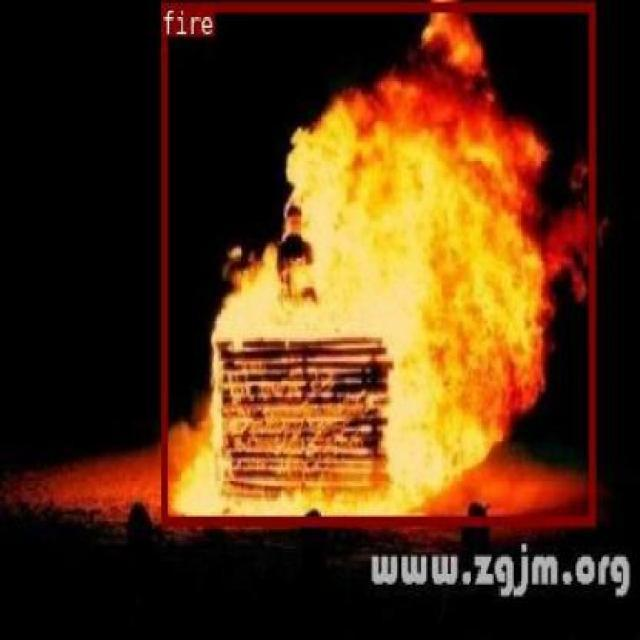Fire: (377, 262, 435, 523)
